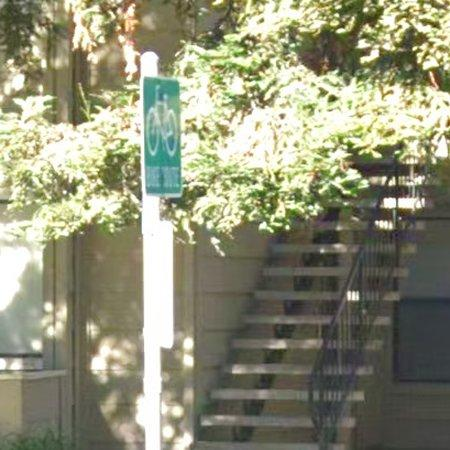stairs: (195, 159, 426, 450)
